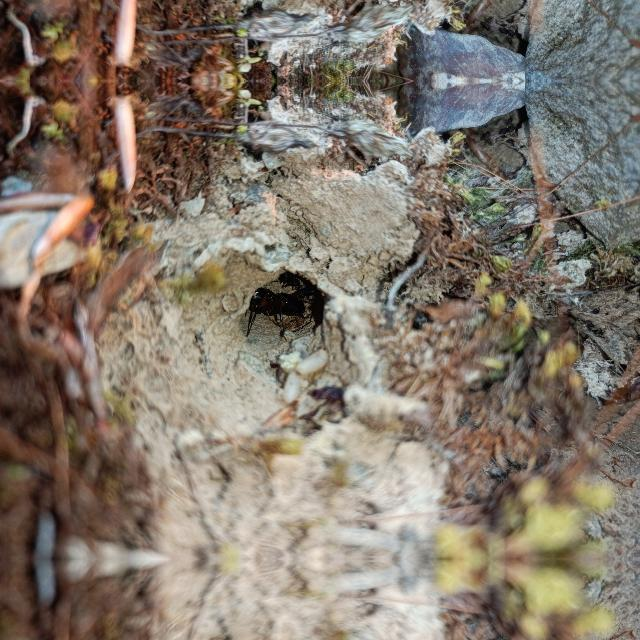Camponotus: (245, 281, 308, 321)
